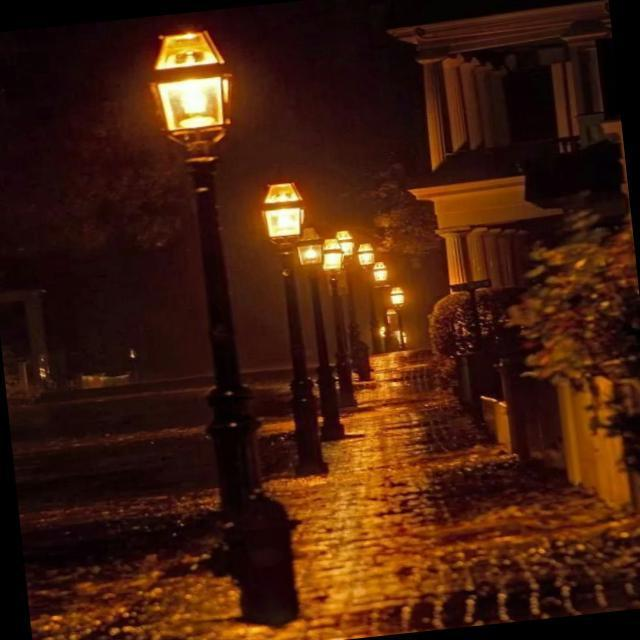on: (143, 17, 239, 144), (329, 244, 429, 331), (249, 172, 324, 257)
